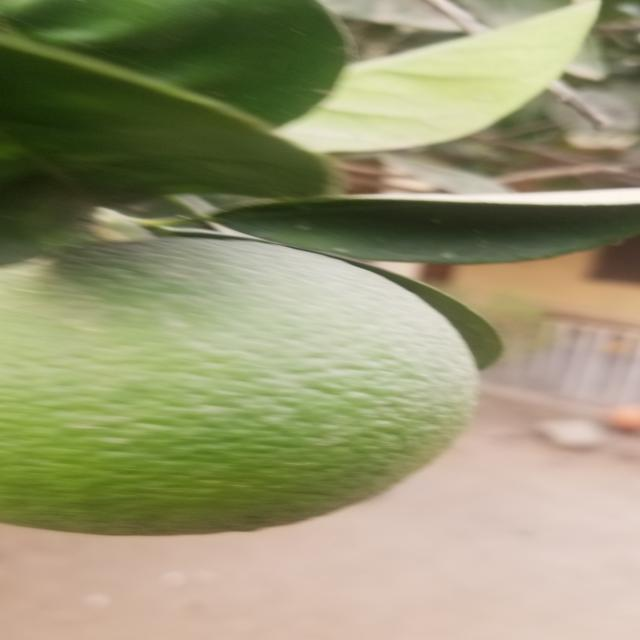Unripe: (0, 226, 483, 552)
